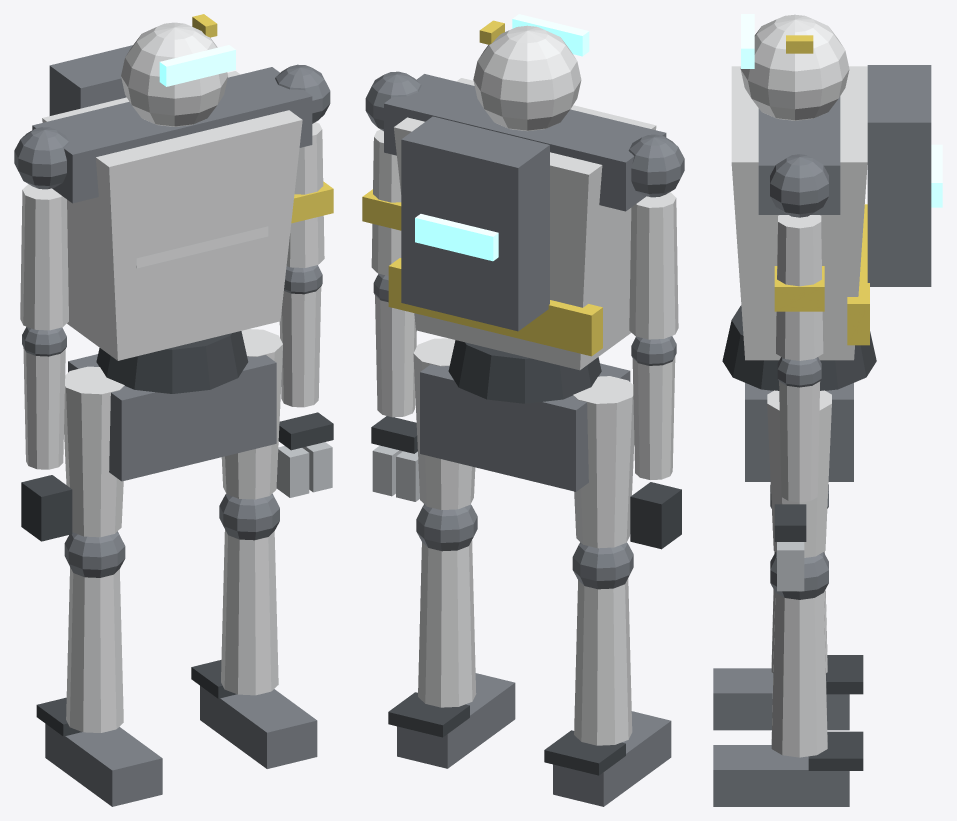
Rendered from humanoid-worker.glb.
The picture shows the model from 3 angles, left to right: view 1: azimuth 30°, elevation 25°; view 2: azimuth 150°, elevation 25°; view 3: azimuth 270°, elevation 25°; orthographic projection.
Parts seen in each view (by area): view 1: humanoid-worker, arm-right/shell, arm-right/steel, arm-right/graphite, arm-right/rubber, arm-right/yellow; view 2: humanoid-worker, arm-right/shell, arm-right/steel, arm-right/graphite, arm-right/rubber, arm-right/yellow; view 3: humanoid-worker, arm-right/shell, arm-right/graphite, arm-right/yellow, arm-right/steel, arm-right/rubber.
Part boxes in pixels (bbox=[...]): humanoid-worker: bbox=[14, 14, 317, 806]; arm-right/shell: bbox=[279, 122, 324, 407]; arm-right/steel: bbox=[276, 442, 332, 497]; arm-right/graphite: bbox=[275, 64, 330, 294]; arm-right/rubber: bbox=[278, 412, 333, 450]; arm-right/yellow: bbox=[291, 181, 333, 223]; humanoid-worker: bbox=[384, 14, 684, 806]; arm-right/shell: bbox=[371, 129, 416, 417]; arm-right/steel: bbox=[372, 445, 419, 501]; arm-right/graphite: bbox=[365, 71, 421, 302]; arm-right/rubber: bbox=[371, 416, 417, 453]; arm-right/yellow: bbox=[362, 189, 401, 230]; humanoid-worker: bbox=[713, 14, 942, 806]; arm-right/shell: bbox=[776, 215, 823, 502]; arm-right/graphite: bbox=[770, 154, 828, 387]; arm-right/yellow: bbox=[774, 266, 824, 311]; arm-right/steel: bbox=[777, 542, 804, 591]; arm-right/rubber: bbox=[774, 504, 806, 541].
Bounding box in the file's own units: 0.7965 × 1.79 × 0.505.
